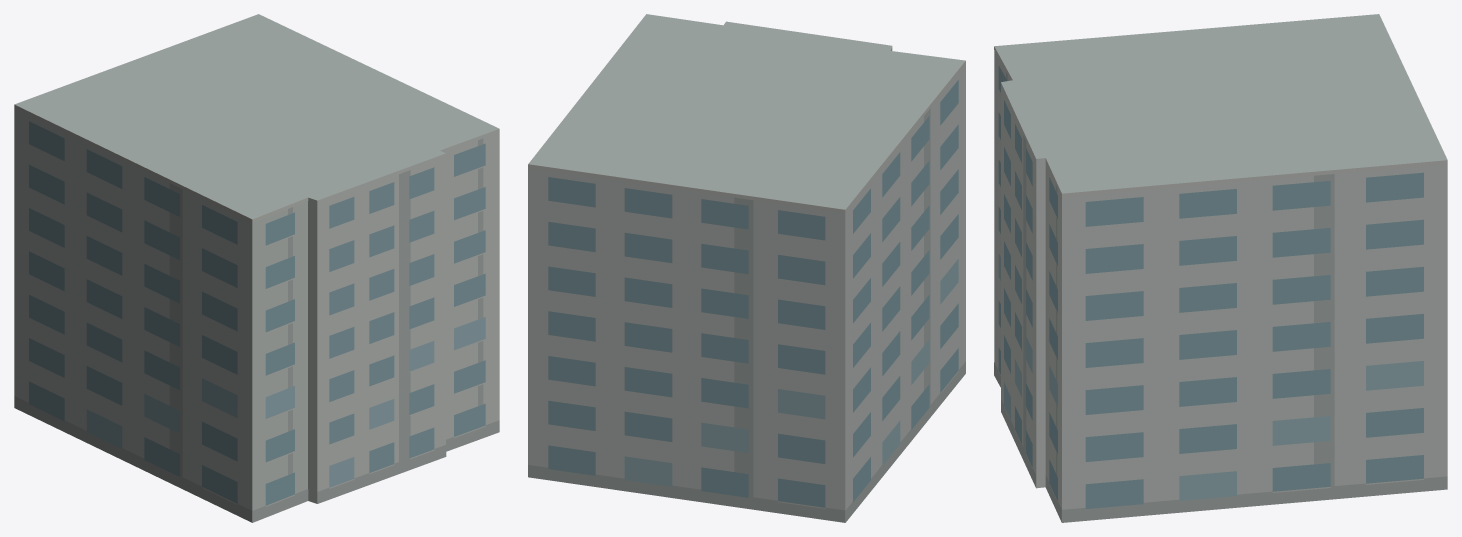
File: survey-upis-32498307.glb
3 renders of one model, left to right at view 1: azimuth 30°, elevation 25°; view 2: azimuth 150°, elevation 25°; view 3: azimuth 270°, elevation 25°, orthographic. The views are drawn at different scales.
Parts seen in each view (by area): view 1: survey-upis-32498307.tmp; view 2: survey-upis-32498307.tmp; view 3: survey-upis-32498307.tmp.
Boxes of the visible parts, x1,y1,x2,y2 form: survey-upis-32498307.tmp: [14, 14, 499, 522]; survey-upis-32498307.tmp: [528, 14, 965, 522]; survey-upis-32498307.tmp: [994, 14, 1447, 522].
Bounding box in the file's own units: 24.11 × 20.6 × 25.73.
